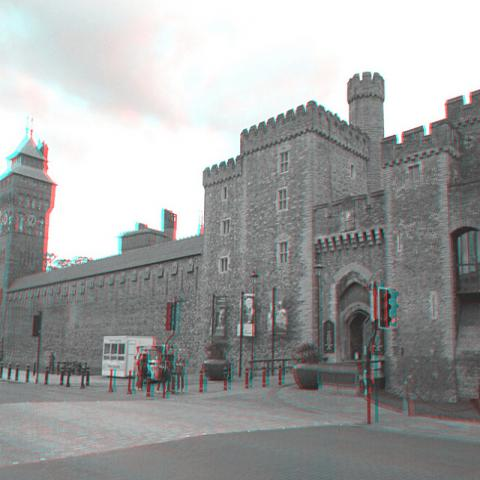car: (136, 345, 166, 378)
truck: (101, 334, 155, 378)
